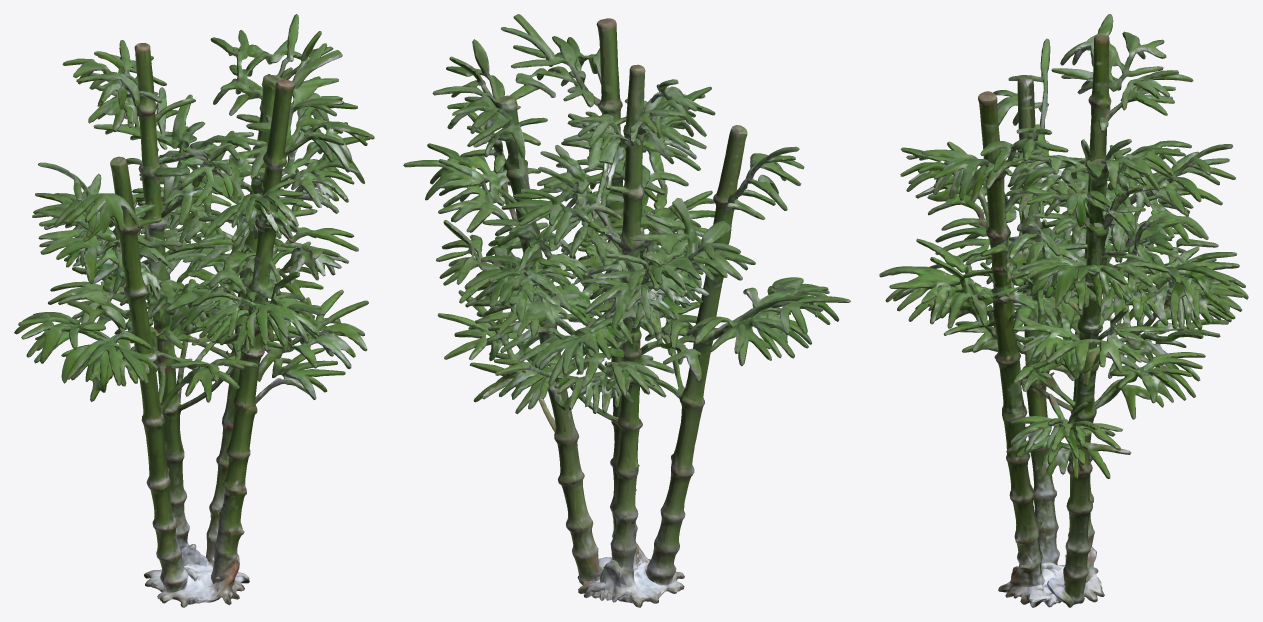
Rendered from bamboo_raw.glb.
3 views of the same model, side by side, from view 1: azimuth 30°, elevation 25°; view 2: azimuth 150°, elevation 25°; view 3: azimuth 270°, elevation 25° (orthographic). The views are drawn at different scales.
Visible parts, largest first — view 1: geometry_0; view 2: geometry_0; view 3: geometry_0.
Boxes of the visible parts, x1,y1,x2,y2 form: geometry_0: (14, 14, 374, 607); geometry_0: (403, 14, 850, 607); geometry_0: (879, 14, 1248, 607).
Bounding box in the file's own units: 1.87 × 2.5 × 1.55.
Materials: 1 (1 with a texture image).
